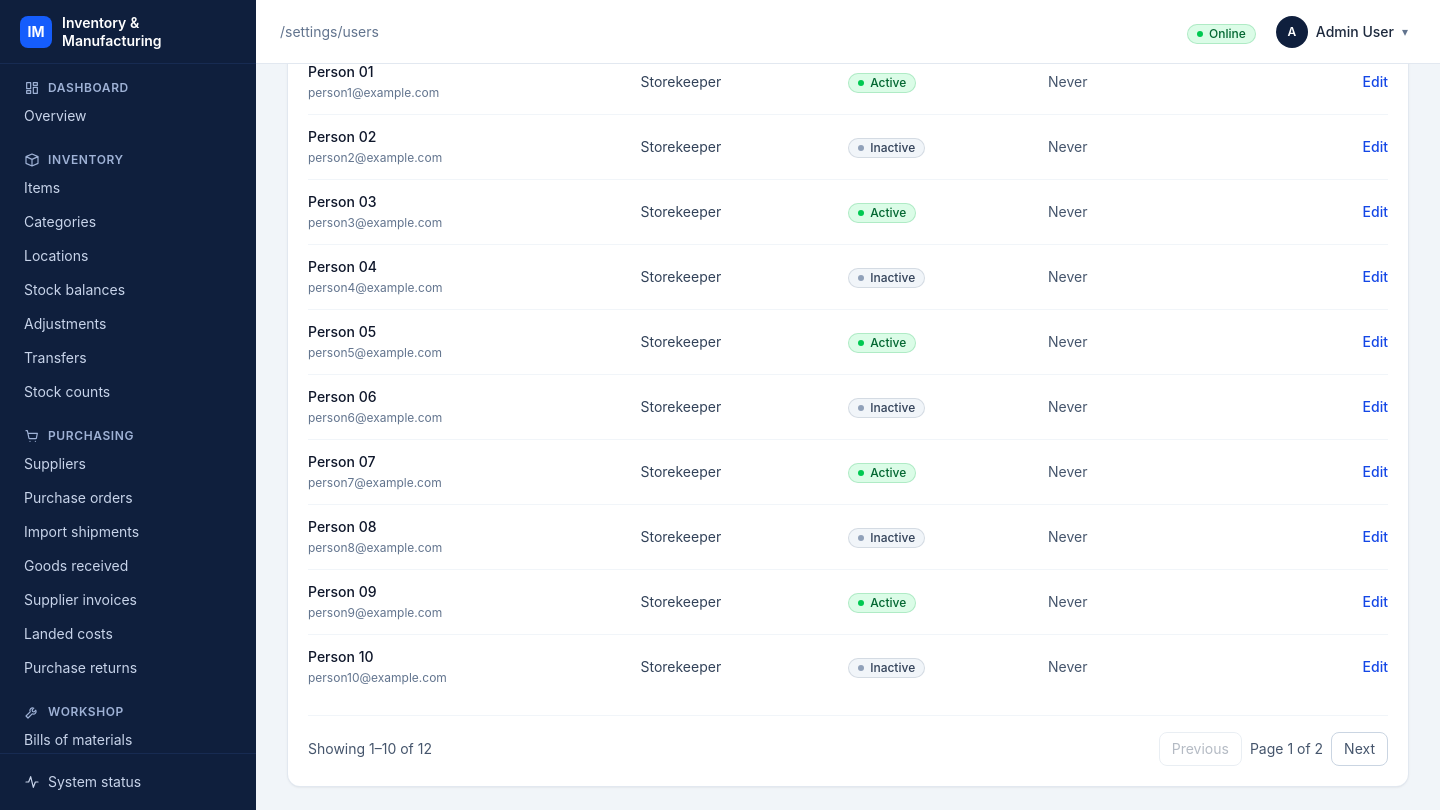
Scenario: users and roles administration › filters users by search, role and status and paginates locally
(page scrolled)
Expected: the text "Page 1 of 2" is shown, 1250,739 -> 1323,759
Click the button "Next": coordinates (1360, 749) 1331,732 -> 1388,766
(page scrolled)
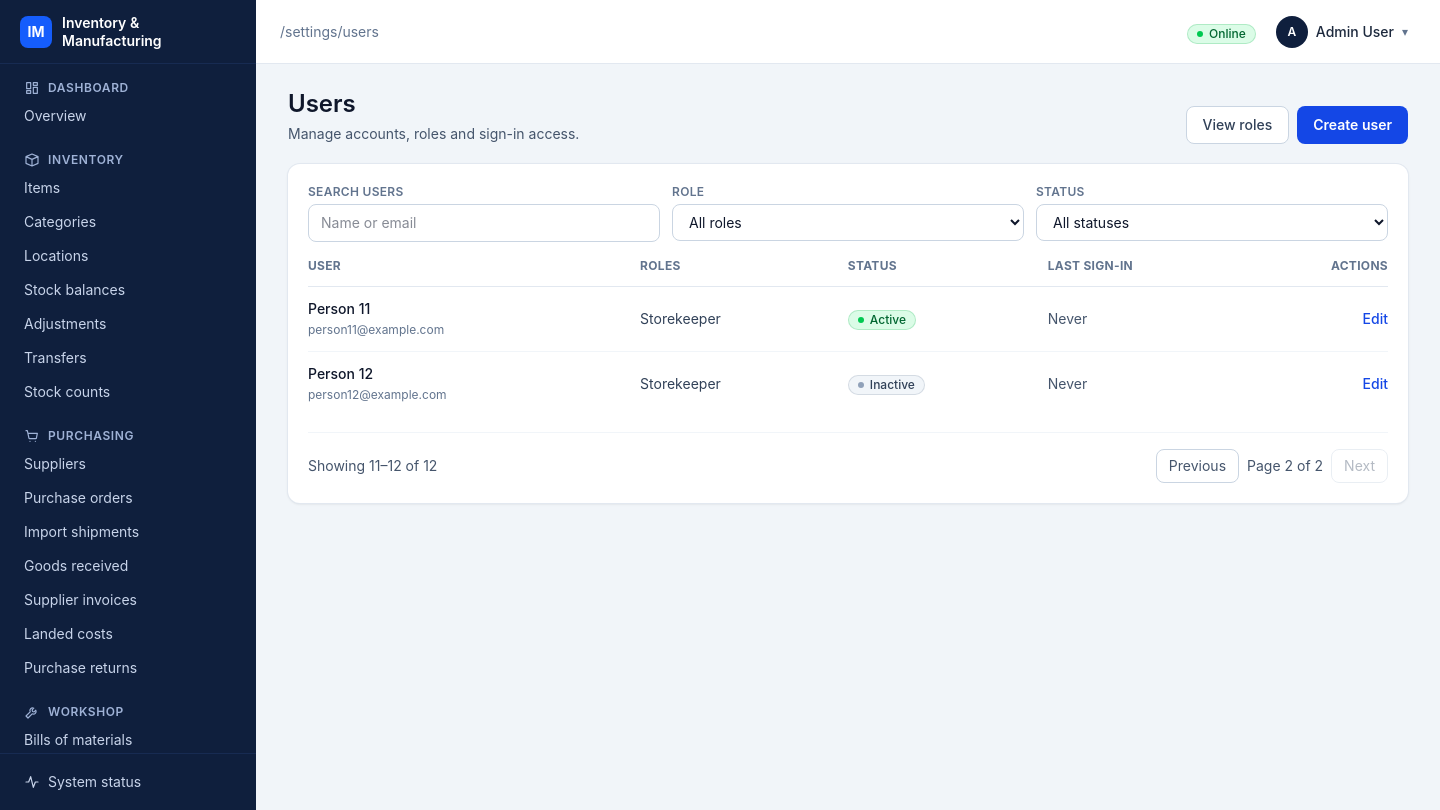
Result: the text "Page 2 of 2" is shown at 1247,456 -> 1323,476
In the search field labelled "Search users": coordinates (484, 223) 308,204 -> 660,242, type "Person 03"
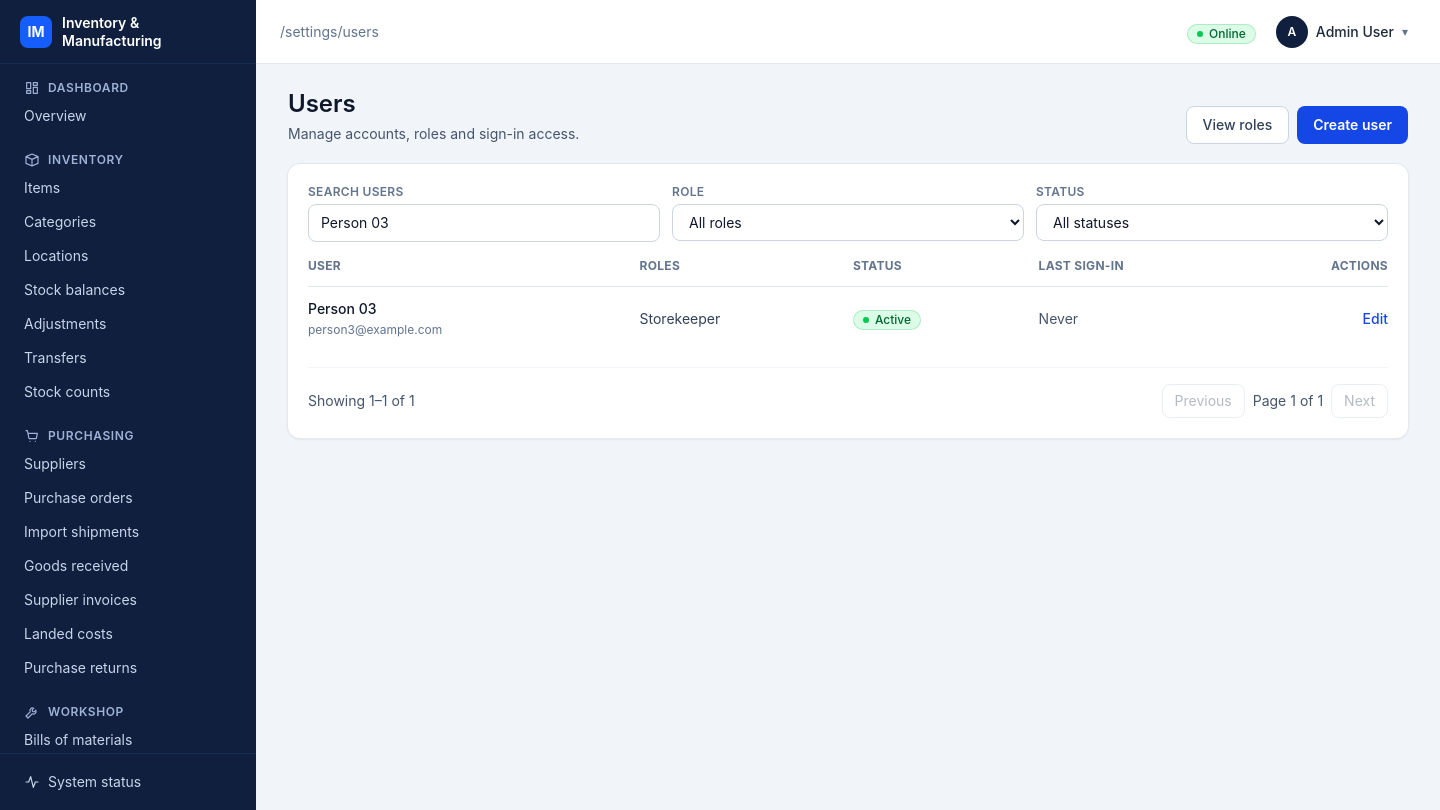
Result: the text "Page 1 of 1" is shown at 1253,391 -> 1323,411
Result: the text "Person 03" is shown at 308,300 -> 376,317
Select "Inactive" in the dropdown labelled "Status": coordinates (1212, 222) 1036,204 -> 1388,241
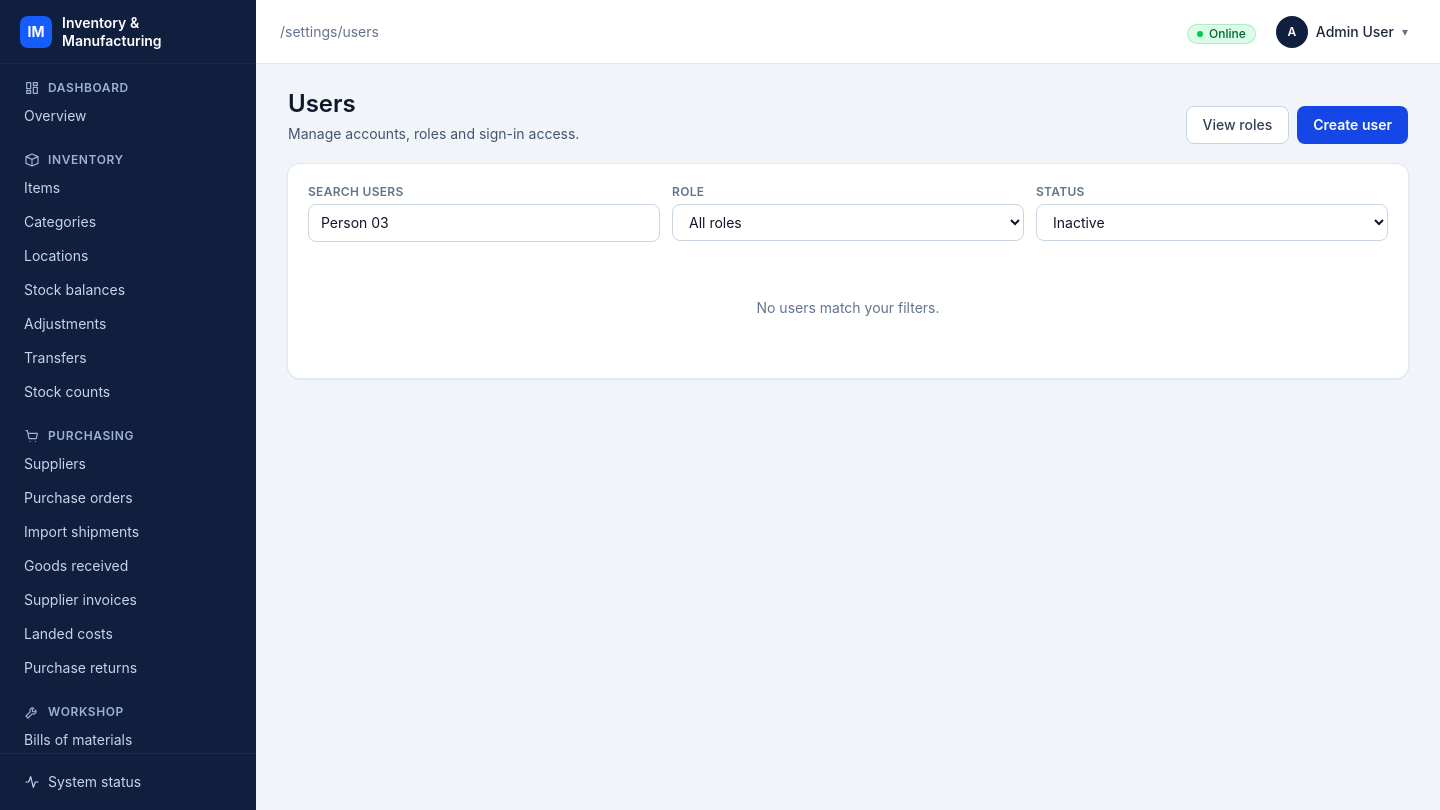
Result: the text "No users match your filters." is shown at 756,299 -> 940,316
Select "Active" in the dropdown labelled "Status": coordinates (1212, 222) 1036,204 -> 1388,241
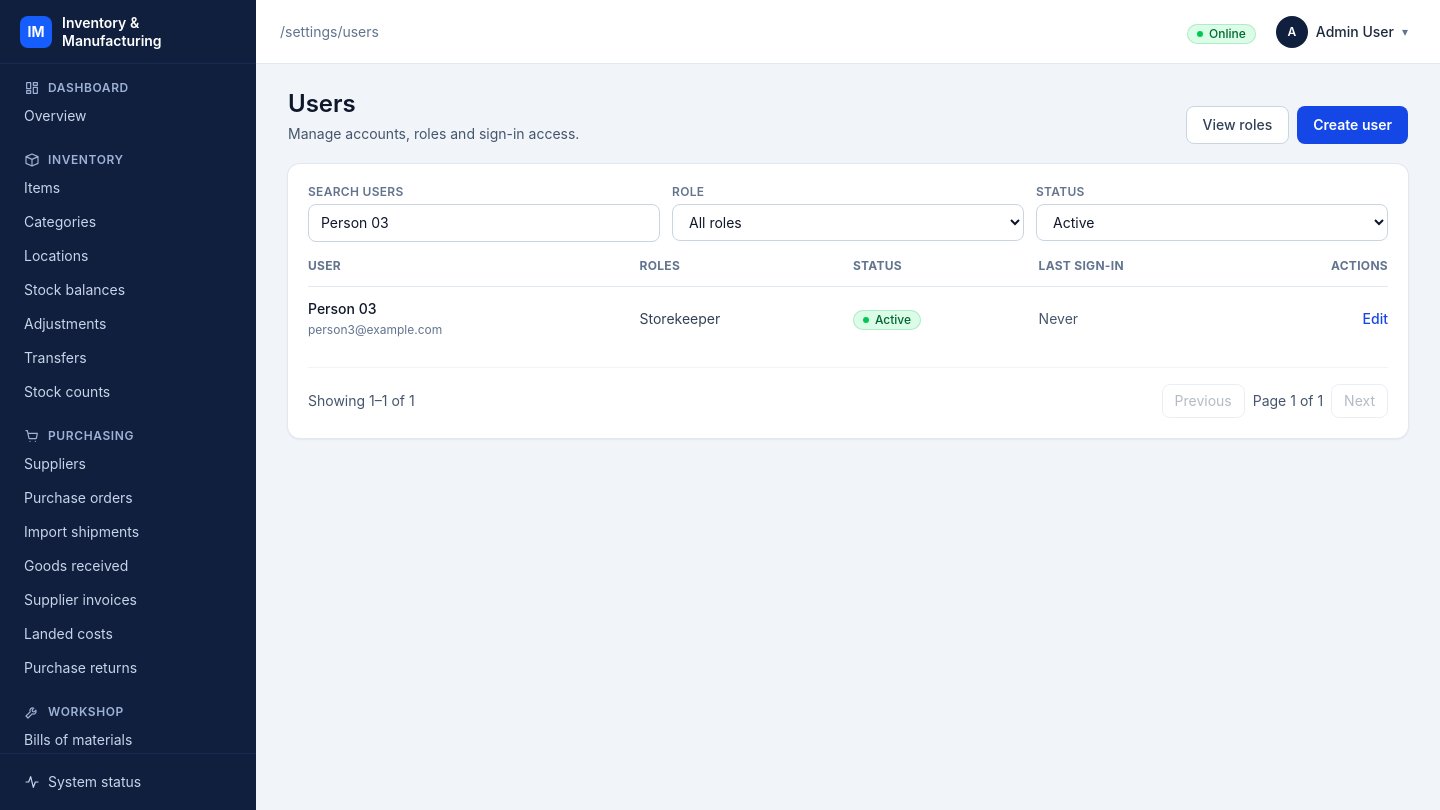
Select "Admin" in the dropdown labelled "Role": coordinates (848, 222) 672,204 -> 1024,241
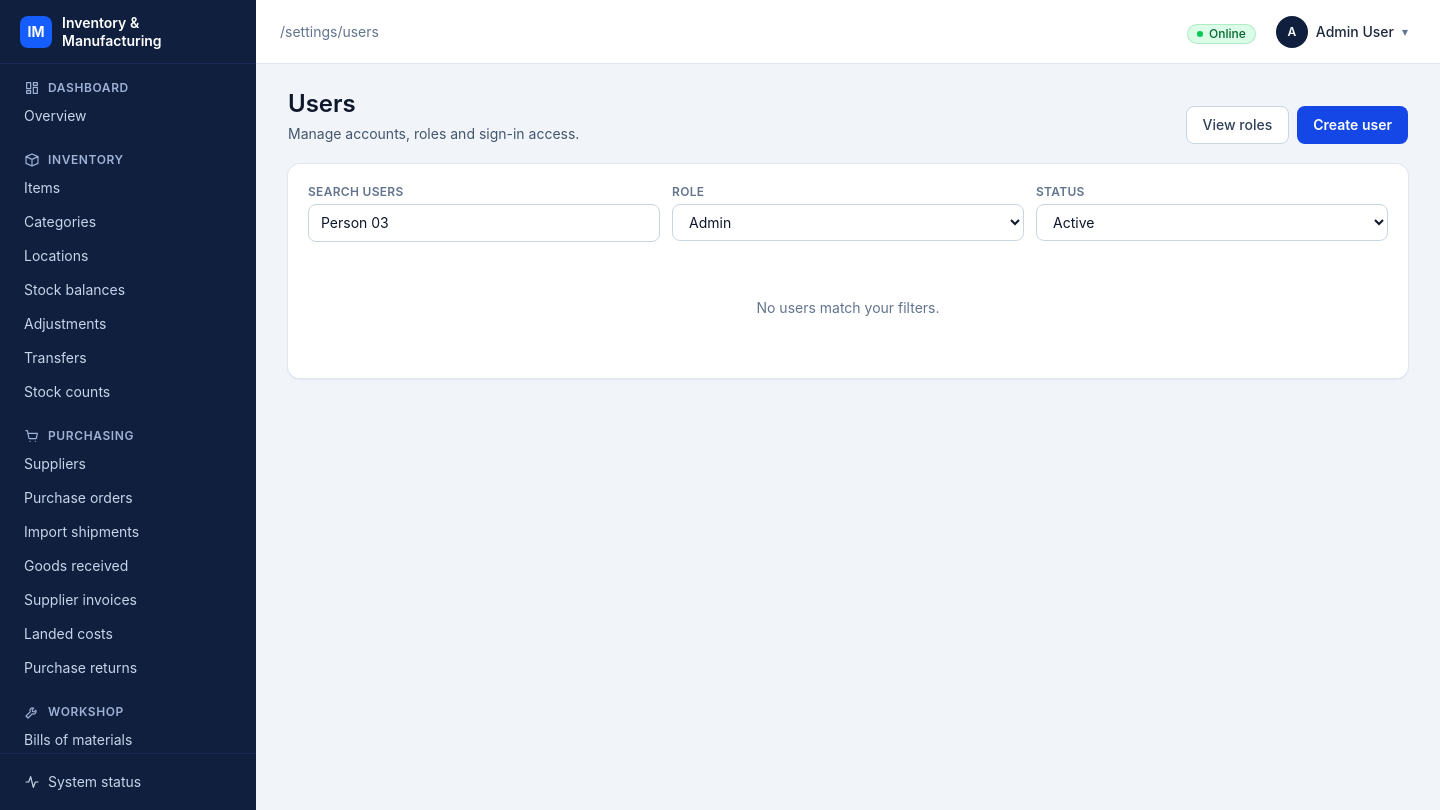
Result: the text "No users match your filters." is shown at 756,299 -> 940,316
